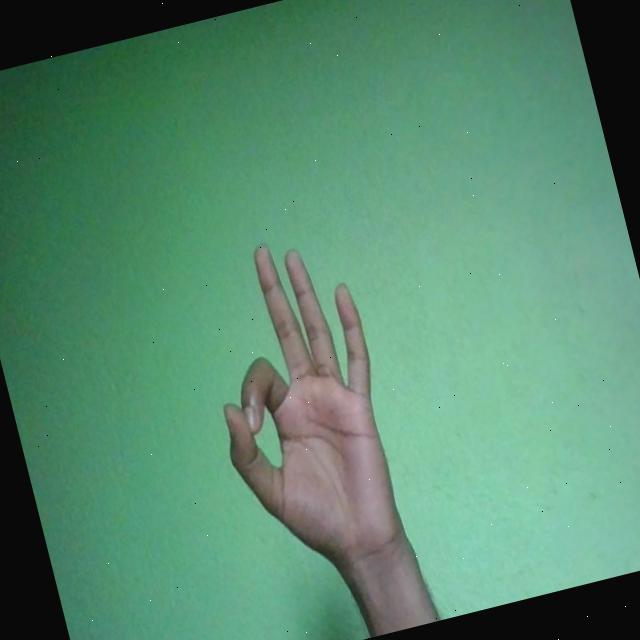Rock On: (180, 223, 418, 592)
